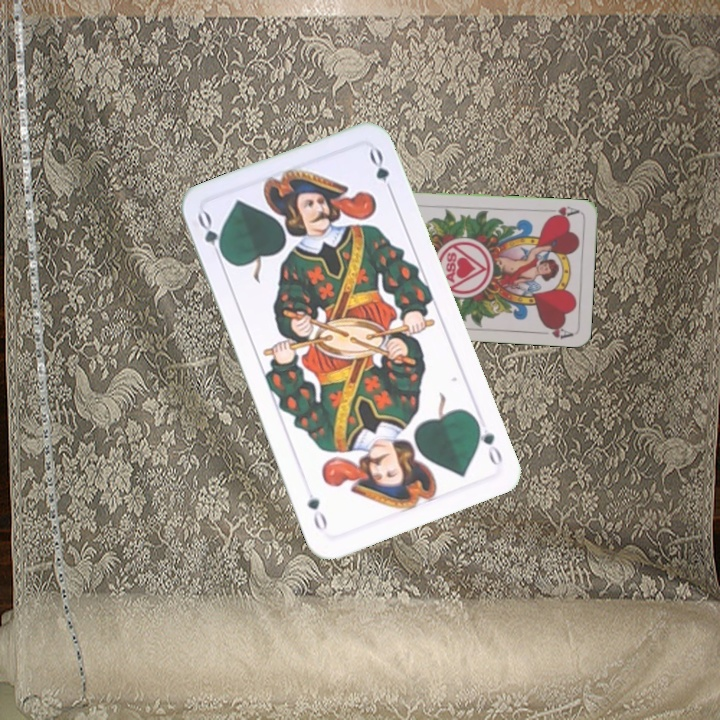GO: (193, 207, 230, 265), (471, 413, 505, 469)
HA: (544, 202, 582, 221)
